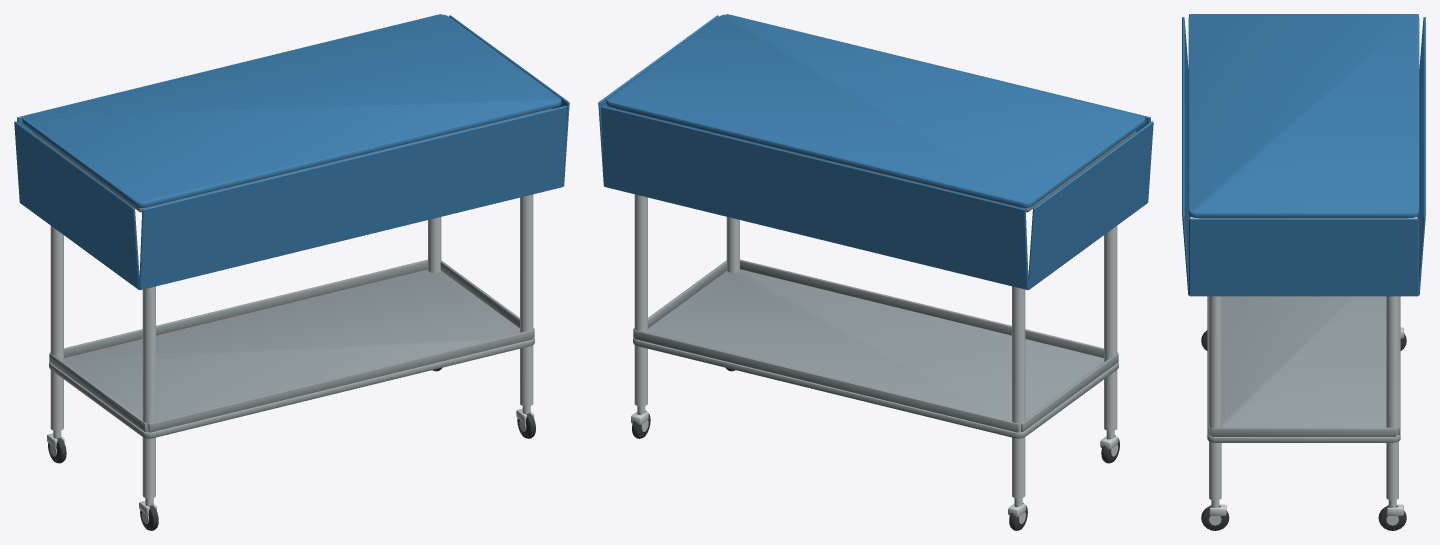
File: sc-sterile-setup-table.glb
The picture shows the model from 3 angles, left to right: view 1: azimuth 30°, elevation 25°; view 2: azimuth 150°, elevation 25°; view 3: azimuth 270°, elevation 25°; orthographic projection. The views are drawn at different scales.
Parts seen in each view (by area): view 1: sc-sterile-setup-table; view 2: sc-sterile-setup-table; view 3: sc-sterile-setup-table.
Boxes of the visible parts, left/top/right/bottom form: sc-sterile-setup-table: left=14, top=14, right=569, bottom=530; sc-sterile-setup-table: left=598, top=14, right=1153, bottom=530; sc-sterile-setup-table: left=1182, top=14, right=1425, bottom=530.
Size of the model in its own units: 1.2 by 0.9 by 0.6044.
